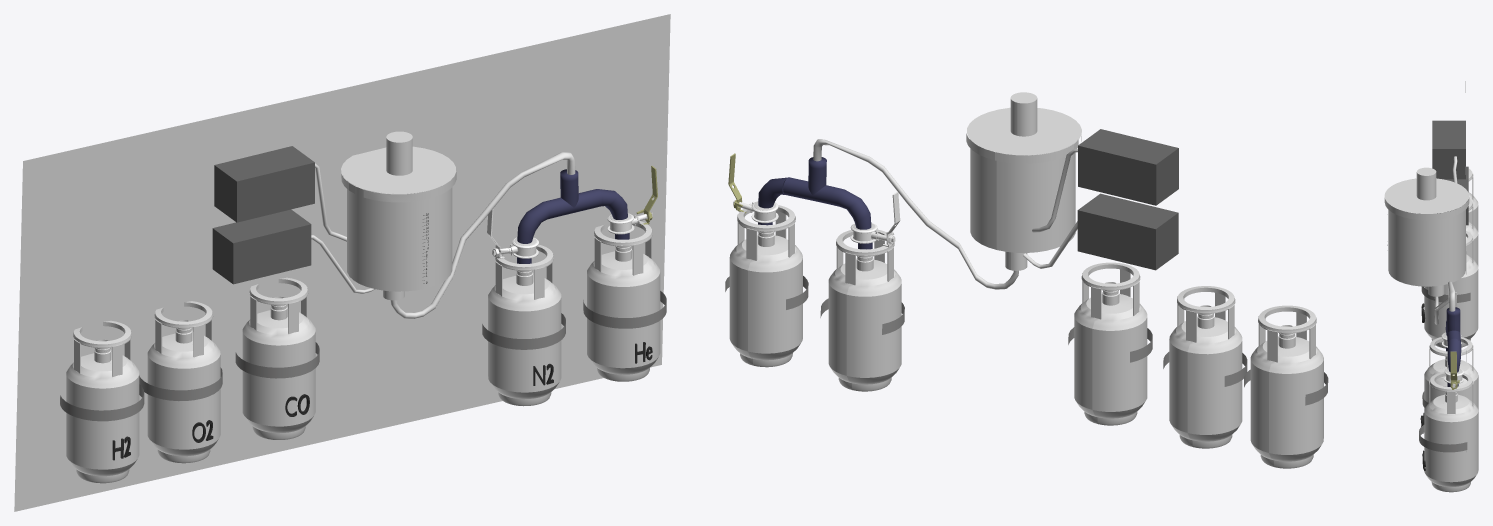
Rendered from project--MdJNCdo.glb.
The picture shows the model from 3 angles, left to right: view 1: azimuth 30°, elevation 25°; view 2: azimuth 150°, elevation 25°; view 3: azimuth 270°, elevation 25°; orthographic projection. The views are drawn at different scales.
Visible parts, largest first — view 1: Plane, Cylinder, Gas_Cylinder1, Gas_Cylinder2, Gas_Cylinder3, Gas_Cylinder5, Gas_Cylinder4, Thermometr, Barometr, krishichka, Gas_Tube_Connector, Gas_Wire (+6 smaller); view 2: Gas_Cylinder1, Gas_Cylinder2, Gas_Cylinder3, Gas_Cylinder5, Gas_Cylinder4, Cylinder, Barometr, Thermometr, krishichka, Gas_Tube_Connector, Gas_Wire, porshen; view 3: Cylinder, Gas_Cylinder5, krishichka, Gas_Cylinder2, Thermometr, Gas_Cylinder4, Gas_Tube_Connector, porshen, holder7, Gas_Cylinder3, Gas_Wire, Gas_Cylinder1 (+5 smaller).
Boxes of the visible parts, left/top/right/bottom form: Plane: left=14, top=14, right=670, bottom=511; Cylinder: left=347, top=186, right=452, bottom=291; Gas_Cylinder1: left=66, top=320, right=139, bottom=483; Gas_Cylinder2: left=242, top=277, right=315, bottom=439; Gas_Cylinder3: left=147, top=301, right=220, bottom=463; Gas_Cylinder5: left=587, top=221, right=660, bottom=381; Gas_Cylinder4: left=488, top=244, right=561, bottom=406; Thermometr: left=214, top=146, right=314, bottom=222; Barometr: left=212, top=209, right=311, bottom=284; krishichka: left=341, top=146, right=456, bottom=202; Gas_Tube_Connector: left=517, top=169, right=629, bottom=263; Gas_Wire: left=390, top=152, right=575, bottom=318; Gas_Cylinder1: left=1250, top=305, right=1323, bottom=468; Gas_Cylinder2: left=1074, top=262, right=1147, bottom=425; Gas_Cylinder3: left=1169, top=286, right=1242, bottom=448; Gas_Cylinder5: left=729, top=205, right=802, bottom=367; Gas_Cylinder4: left=828, top=229, right=901, bottom=391; Cylinder: left=970, top=139, right=1075, bottom=252; Barometr: left=1077, top=193, right=1178, bottom=270; Thermometr: left=1078, top=129, right=1178, bottom=205; krishichka: left=966, top=107, right=1081, bottom=163; Gas_Tube_Connector: left=758, top=157, right=872, bottom=249; Gas_Wire: left=813, top=139, right=1018, bottom=289; porshen: left=1010, top=92, right=1037, bottom=136; Cylinder: left=1388, top=203, right=1465, bottom=286; Gas_Cylinder5: left=1424, top=372, right=1478, bottom=492; krishichka: left=1384, top=178, right=1469, bottom=220; Gas_Cylinder2: left=1424, top=231, right=1478, bottom=348; Thermometr: left=1432, top=120, right=1465, bottom=179; Gas_Cylinder4: left=1424, top=337, right=1478, bottom=410; Gas_Tube_Connector: left=1445, top=307, right=1461, bottom=386; porshen: left=1416, top=167, right=1436, bottom=214; holder7: left=1419, top=425, right=1467, bottom=452; Gas_Cylinder3: left=1466, top=198, right=1478, bottom=265; Gas_Wire: left=1434, top=281, right=1455, bottom=324; Gas_Cylinder1: left=1468, top=168, right=1478, bottom=231.
Size of the model in its own units: 24.26 by 12.75 by 4.07.
